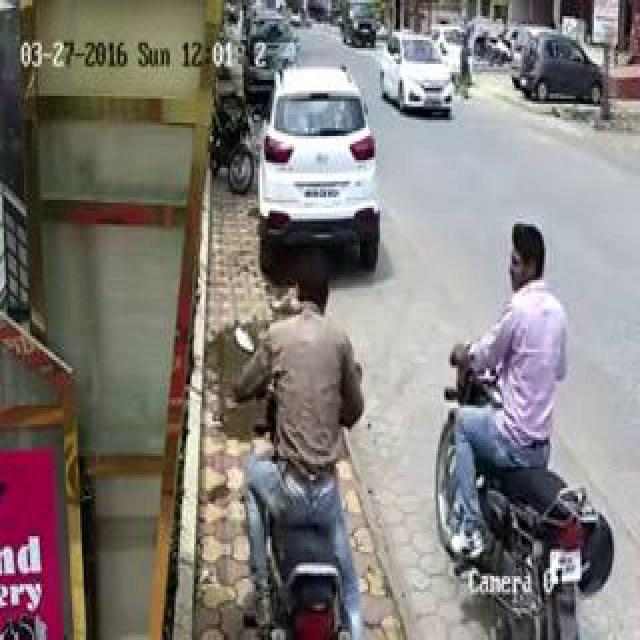stealing: (206, 217, 600, 640)
